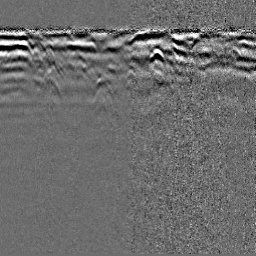cavity: (147, 44, 166, 62)
